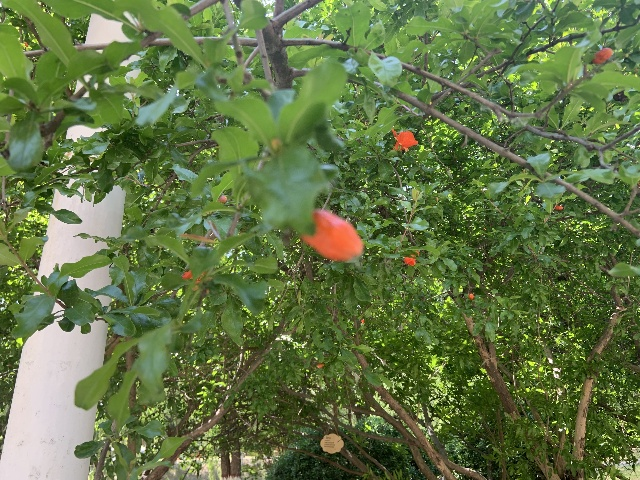bud: (300, 209, 363, 261), (592, 47, 613, 64), (218, 195, 227, 203), (553, 204, 563, 210), (468, 293, 473, 299)
flower: (181, 269, 212, 292), (390, 128, 417, 151), (403, 251, 419, 266), (316, 363, 323, 368)
